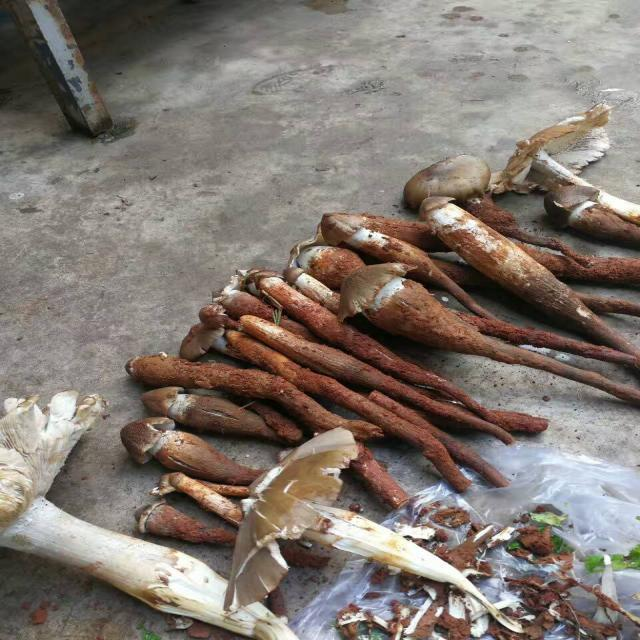Collybia albuminosa: (0, 387, 302, 634), (237, 429, 513, 628), (349, 261, 640, 403), (419, 198, 640, 358), (502, 109, 640, 222), (118, 416, 263, 476), (128, 489, 235, 546), (247, 267, 348, 323)
